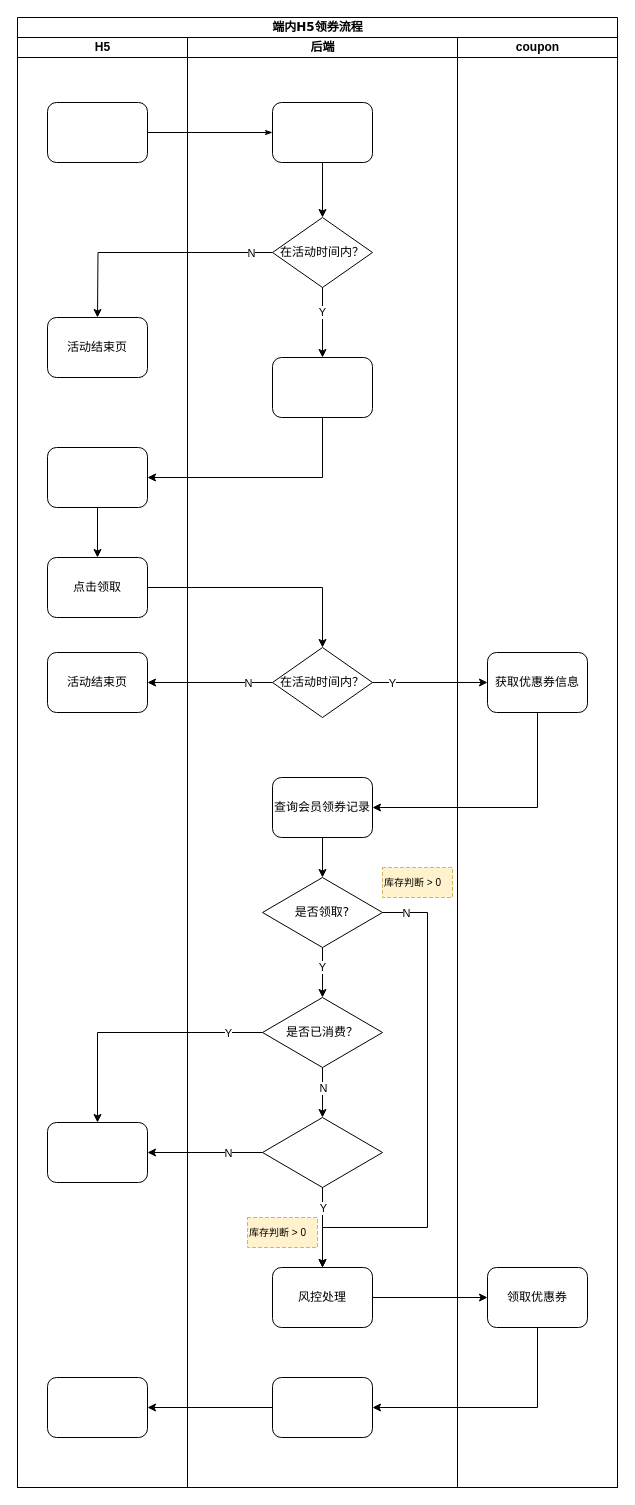
Image size: 635x1505. Some labels were removed from this diagram. The shapes that lost their labels are listed below. From the top down, each one's centre as x and y in pixels, then its label:
At [97,132]: "进入活动页".
At [322,132]: "查询端内活动".
At [322,387]: "按照抢购时间段分组优惠券".
At [97,477]: "活动页".
At [97,1152]: "已领过".
At [322,1152]: "是否已过期？".
At [97,1407]: "领取成功".
At [322,1407]: "记录领券记录".
